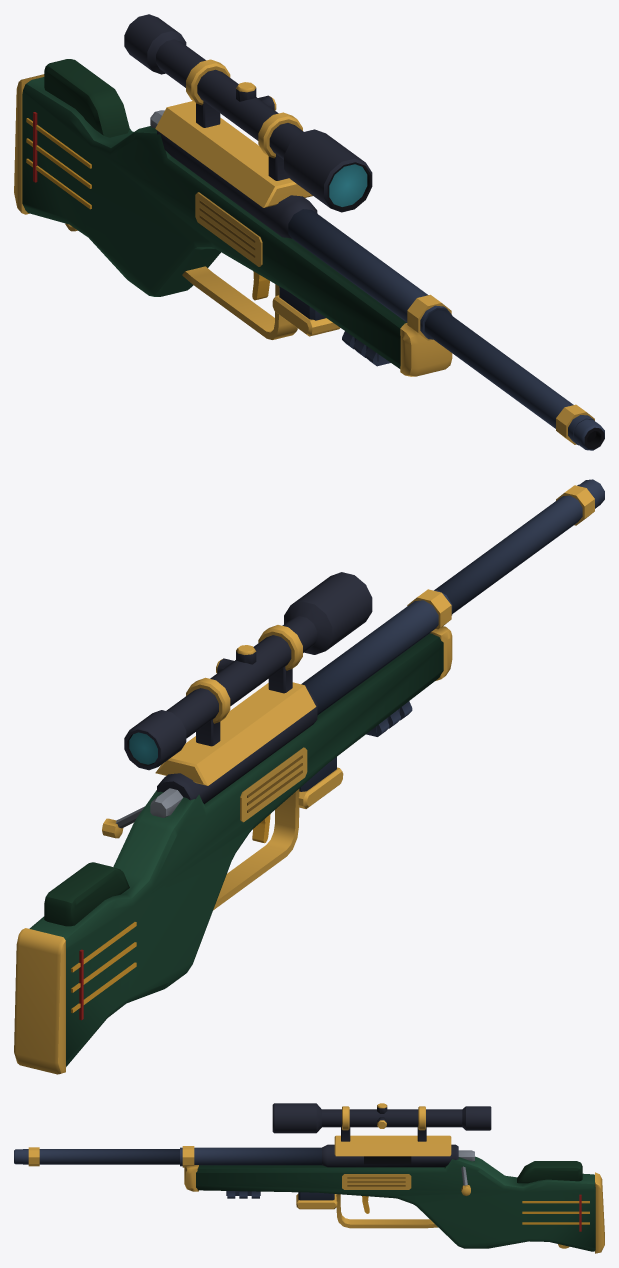
The model's file is long_ledger.glb.
3 views of the same model, one above another, from view 1: azimuth 30°, elevation 25°; view 2: azimuth 150°, elevation 25°; view 3: azimuth 270°, elevation 25° (orthographic). The views are drawn at different scales.
Parts seen in each view (by area): view 1: frame, scope_builtin, mag; view 2: frame, scope_builtin, bolt_handle, mag; view 3: frame, scope_builtin, mag, bolt_handle.
Boxes of the visible parts, left/top/right/bottom form: frame: left=14, top=59, right=604, bottom=450; scope_builtin: left=124, top=14, right=372, bottom=212; mag: left=272, top=286, right=340, bottom=336; frame: left=14, top=479, right=604, bottom=1074; scope_builtin: left=124, top=572, right=372, bottom=770; bolt_handle: left=102, top=788, right=183, bottom=838; mag: left=298, top=757, right=343, bottom=808; frame: left=14, top=1135, right=604, bottom=1253; scope_builtin: left=272, top=1103, right=491, bottom=1141; mag: left=296, top=1192, right=337, bottom=1209; bolt_handle: left=458, top=1150, right=474, bottom=1195.
Bounding box in the file's own units: 0.3026 × 0.8708 × 3.24.
Materials: 1 (1 with a texture image).
